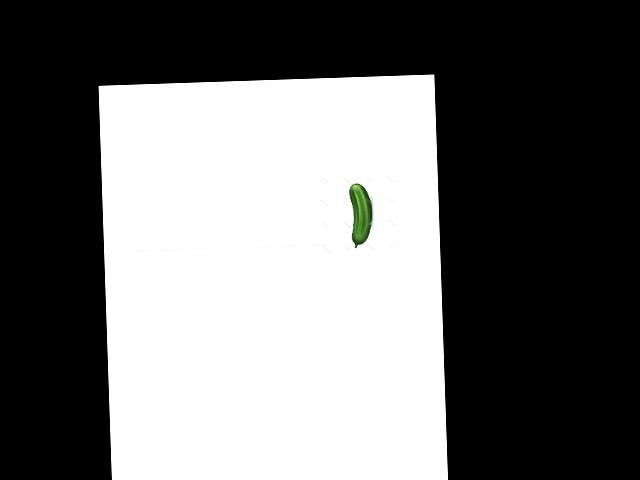cucumber: (349, 182, 373, 247)
